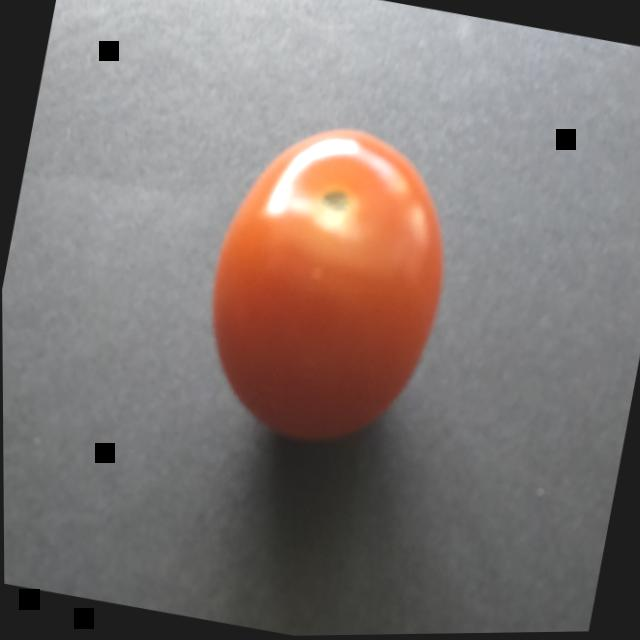Tomato: (102, 53, 527, 565)
